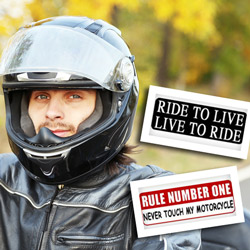with_helmet: (1, 15, 142, 186)
